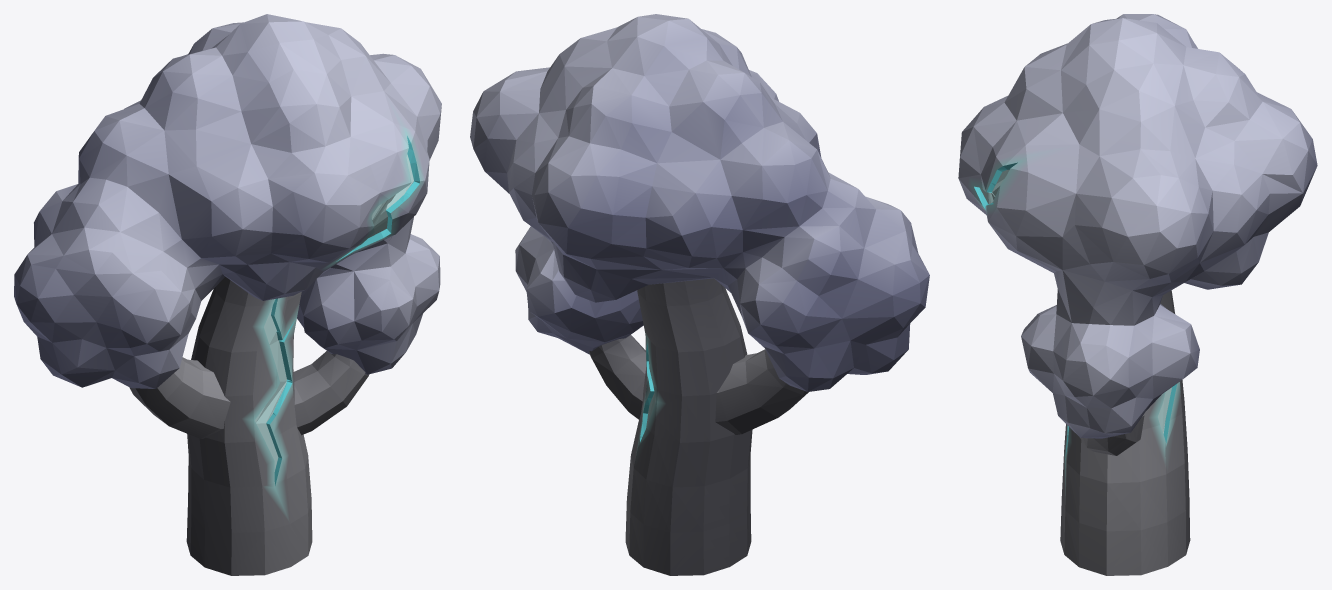
The model's file is Stormwood_Tree_Remake.glb.
The picture shows the model from 3 angles, left to right: view 1: azimuth 30°, elevation 25°; view 2: azimuth 150°, elevation 25°; view 3: azimuth 270°, elevation 25°; orthographic projection. The views are drawn at different scales.
Visible parts, largest first — view 1: Stormwood_Remake; view 2: Stormwood_Remake; view 3: Stormwood_Remake.
Boxes of the visible parts, x1,y1,x2,y2 form: Stormwood_Remake: (14, 14, 441, 575); Stormwood_Remake: (470, 14, 929, 575); Stormwood_Remake: (958, 14, 1317, 575).
Bounding box in the file's own units: 11.01 × 12.81 × 7.72.
